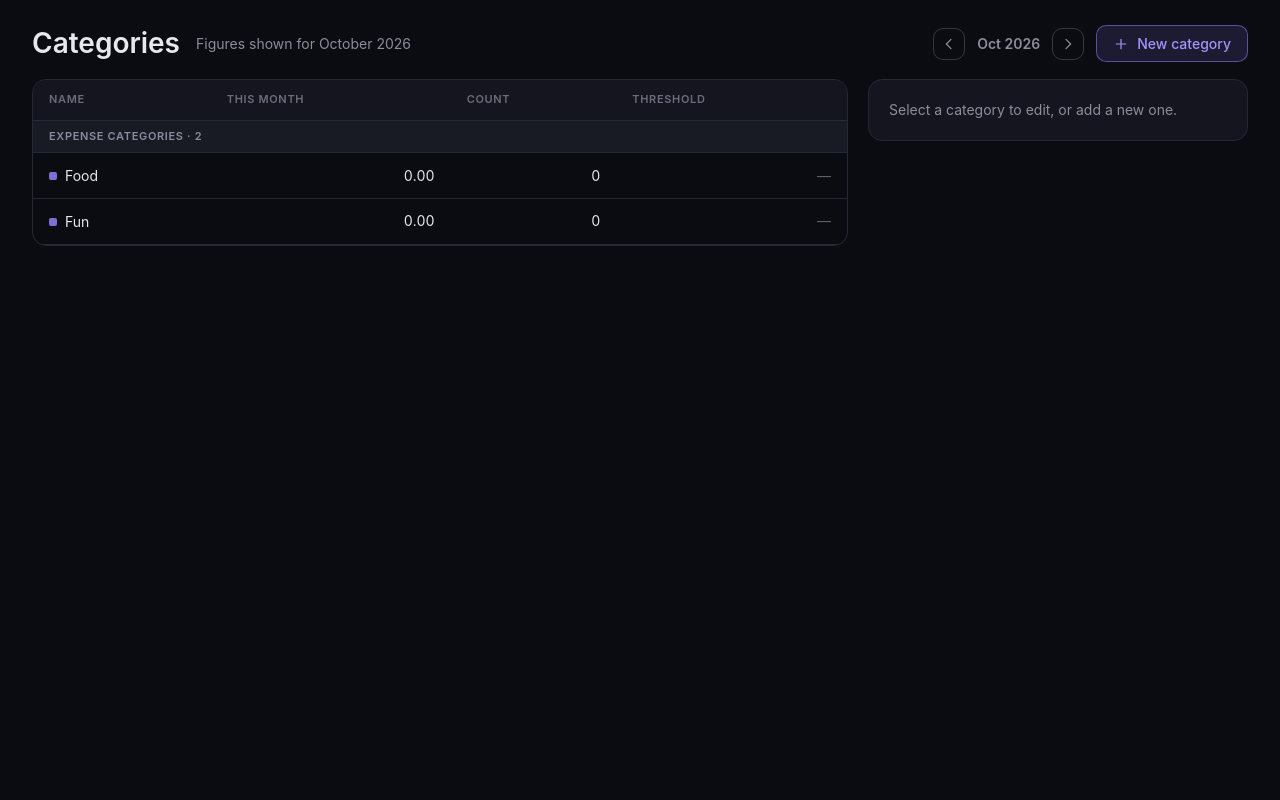
Test: CategoriesPage delete › a failing refresh after a successful delete is not reported as a failed delete
Click the button "Fun" at (122, 222), box [49, 212, 195, 232]
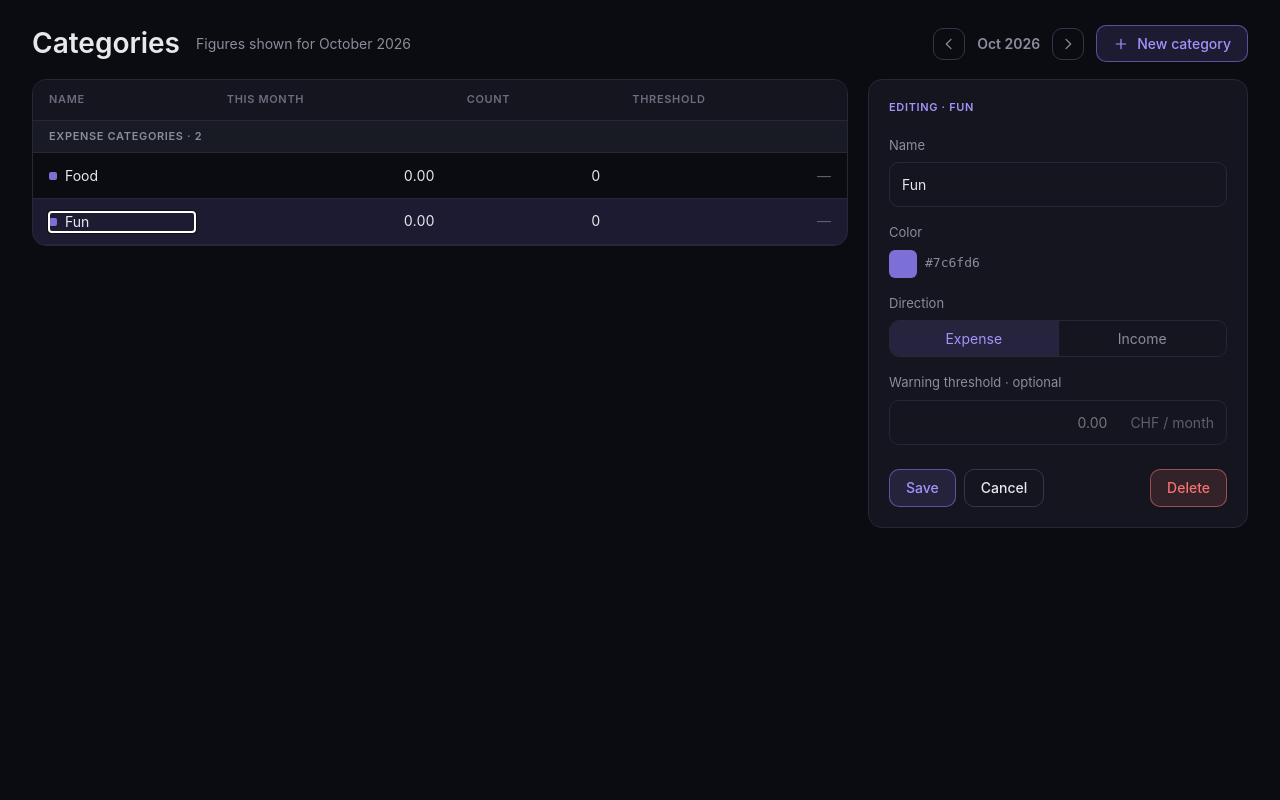
Click the button "Delete" at (1189, 488), box [1150, 469, 1227, 507]
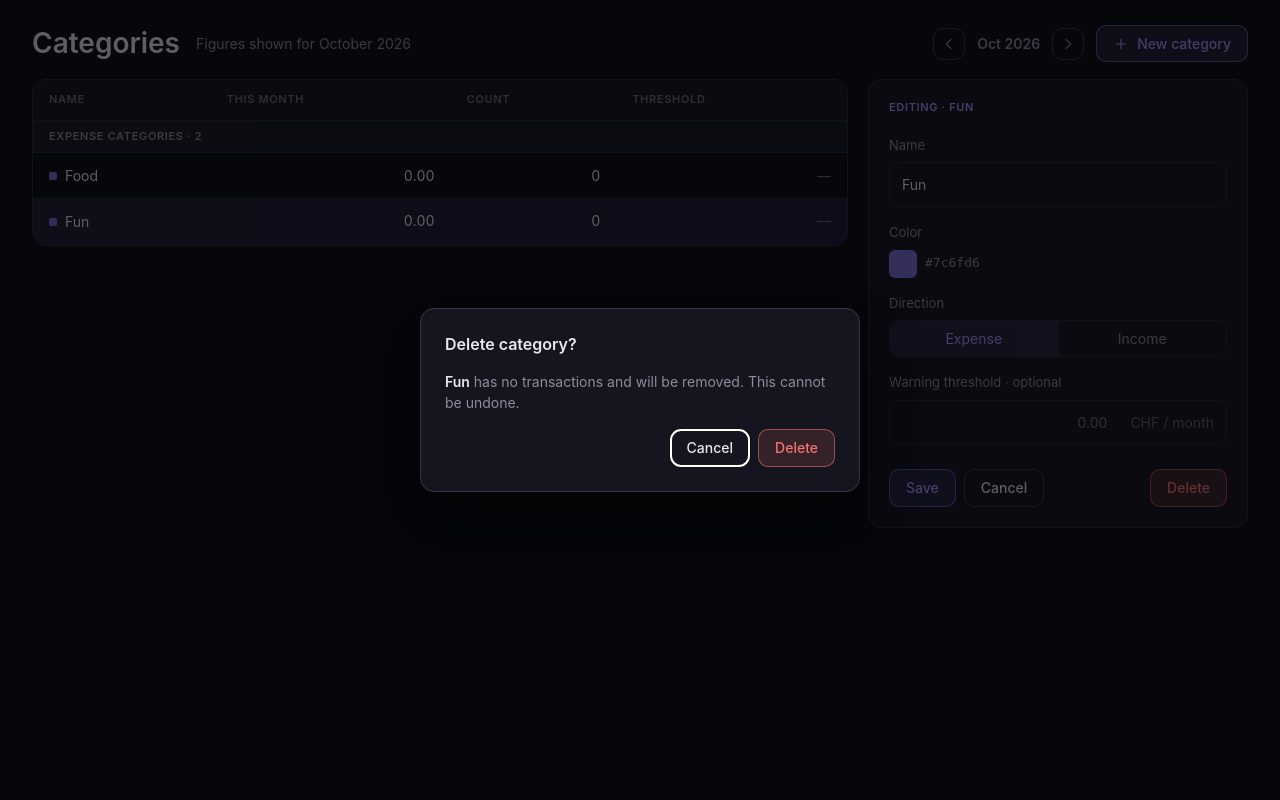
Result: the dialog is shown at [420, 308, 860, 492]
Click the button "Delete" at (797, 448), box [758, 429, 835, 467]
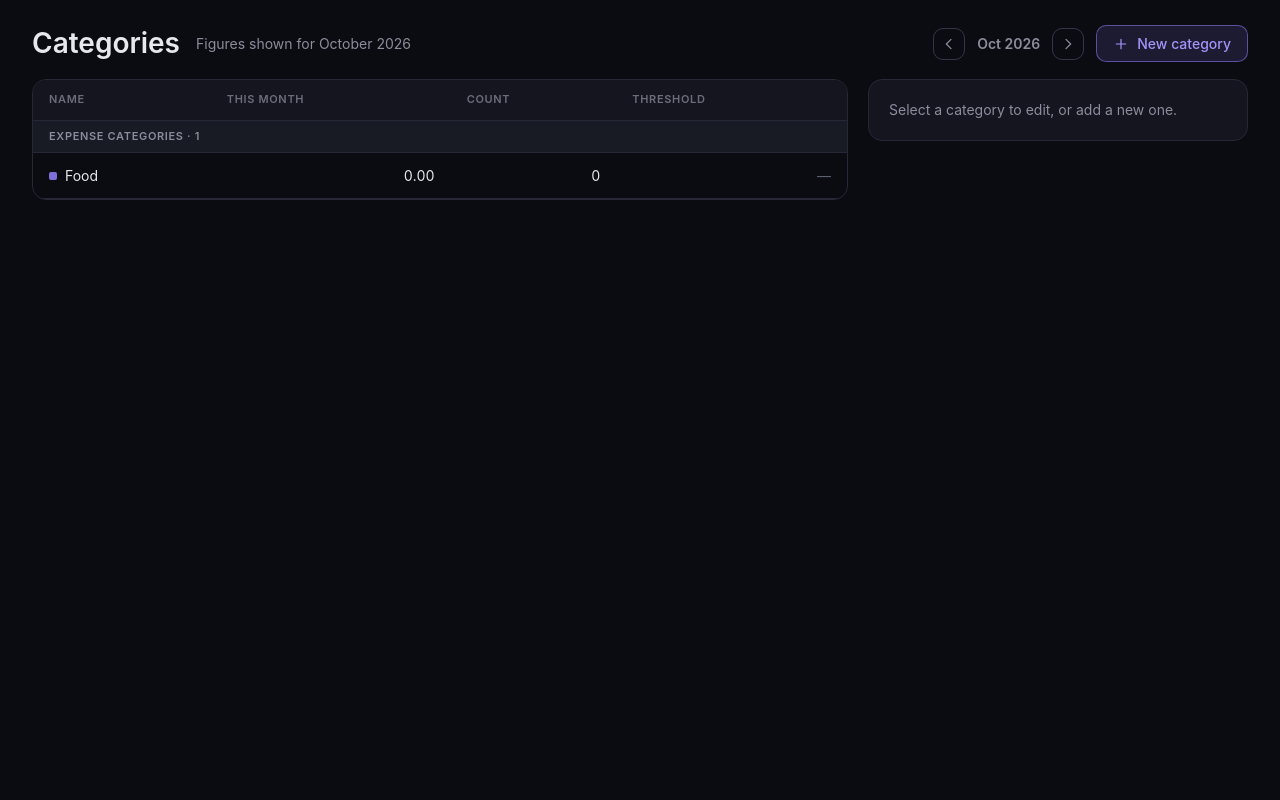
Expected: the button "Food" is shown, [49, 166, 195, 186]
Result: the button "Fun" is gone
